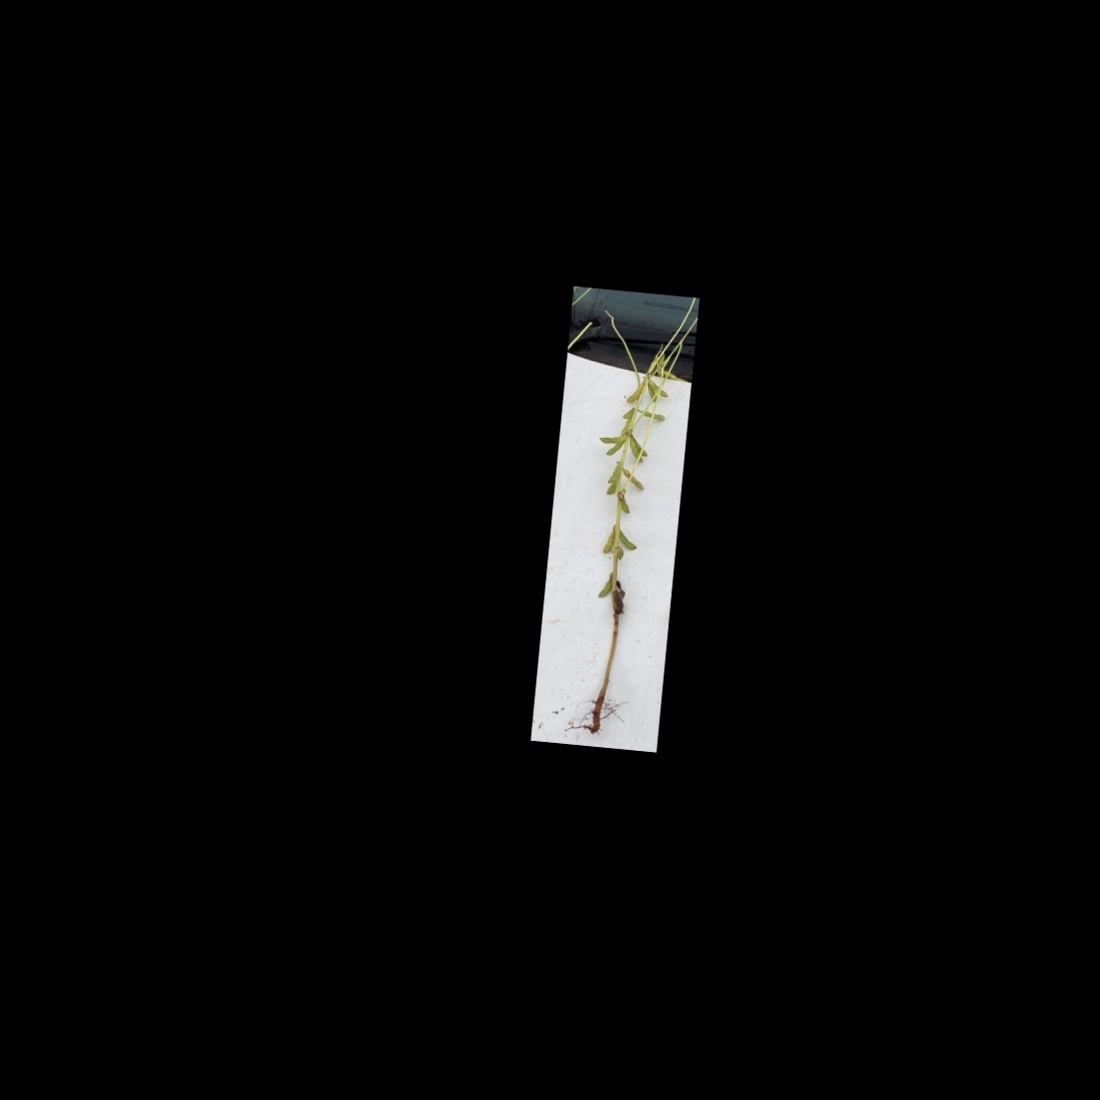pod: (617, 466, 647, 492), (625, 434, 646, 465), (624, 378, 645, 406), (646, 375, 670, 399), (617, 527, 640, 551), (601, 524, 616, 558), (603, 435, 626, 458), (597, 574, 615, 600), (605, 463, 621, 486)
soy: (568, 318, 678, 737)
